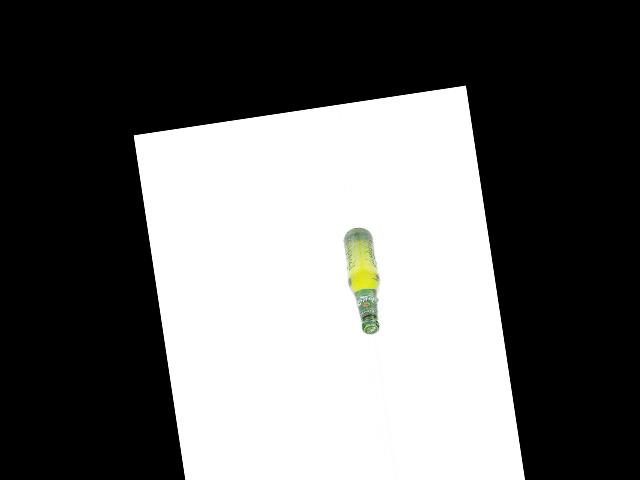beer: (341, 225, 388, 336)
